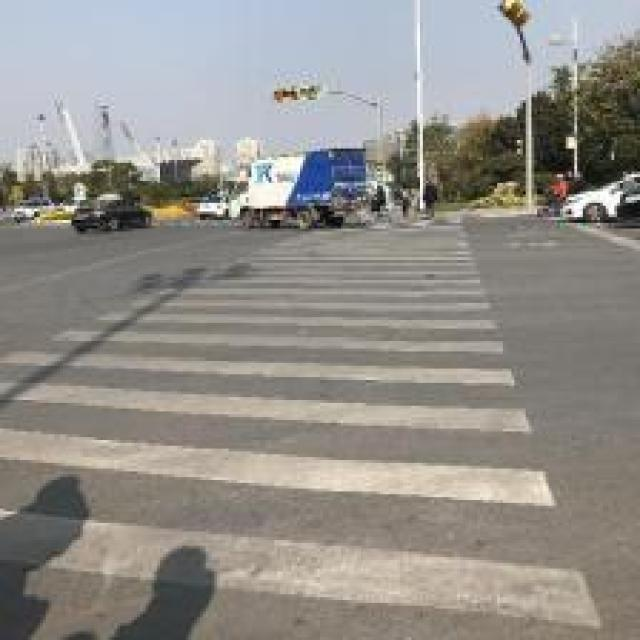walk-crossing: (253, 207, 524, 630)
